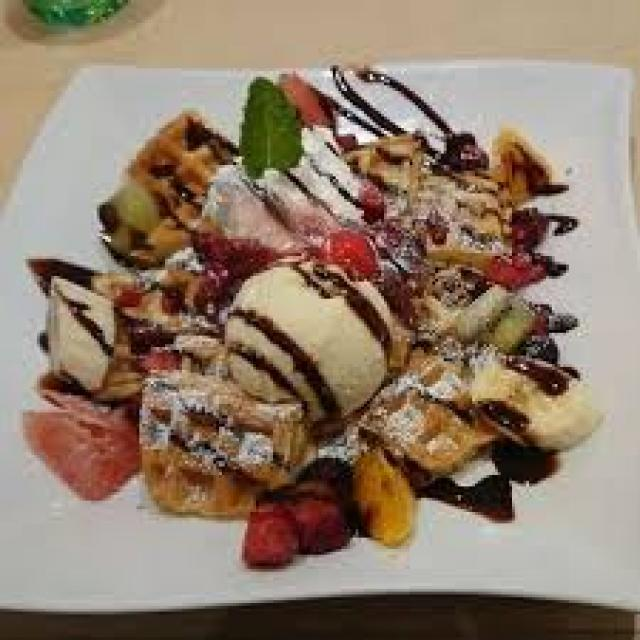organic waste: (358, 111, 566, 279), (131, 336, 299, 512), (193, 128, 390, 256), (230, 267, 396, 418), (97, 114, 233, 262), (432, 338, 592, 449), (9, 378, 145, 506), (37, 267, 142, 404), (370, 387, 472, 475), (100, 256, 219, 324), (264, 469, 356, 555), (350, 435, 415, 543), (421, 282, 526, 347), (233, 74, 299, 171), (196, 228, 290, 293), (296, 216, 395, 273), (244, 506, 302, 572), (276, 68, 333, 122), (342, 174, 396, 228)
